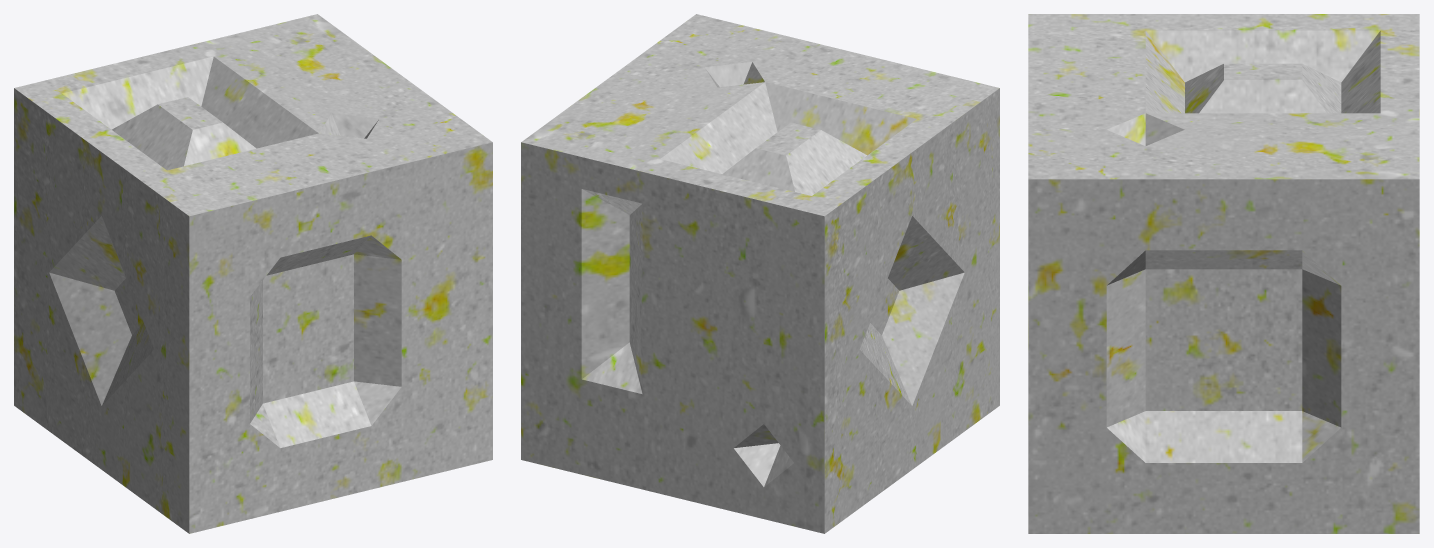
File: carbon-chondrite.glb
3 views of the same model, side by side, from view 1: azimuth 30°, elevation 25°; view 2: azimuth 150°, elevation 25°; view 3: azimuth 270°, elevation 25° (orthographic). The views are drawn at different scales.
Parts seen in each view (by area): view 1: carbon-chondrite; view 2: carbon-chondrite; view 3: carbon-chondrite.
Boxes of the visible parts, x1,y1,x2,y2 form: carbon-chondrite: (14,14,492,533); carbon-chondrite: (521,14,999,533); carbon-chondrite: (1028,14,1419,533).
Bounding box in the file's own units: 1 × 1 × 1.
Materials: 1 (1 with a texture image).
